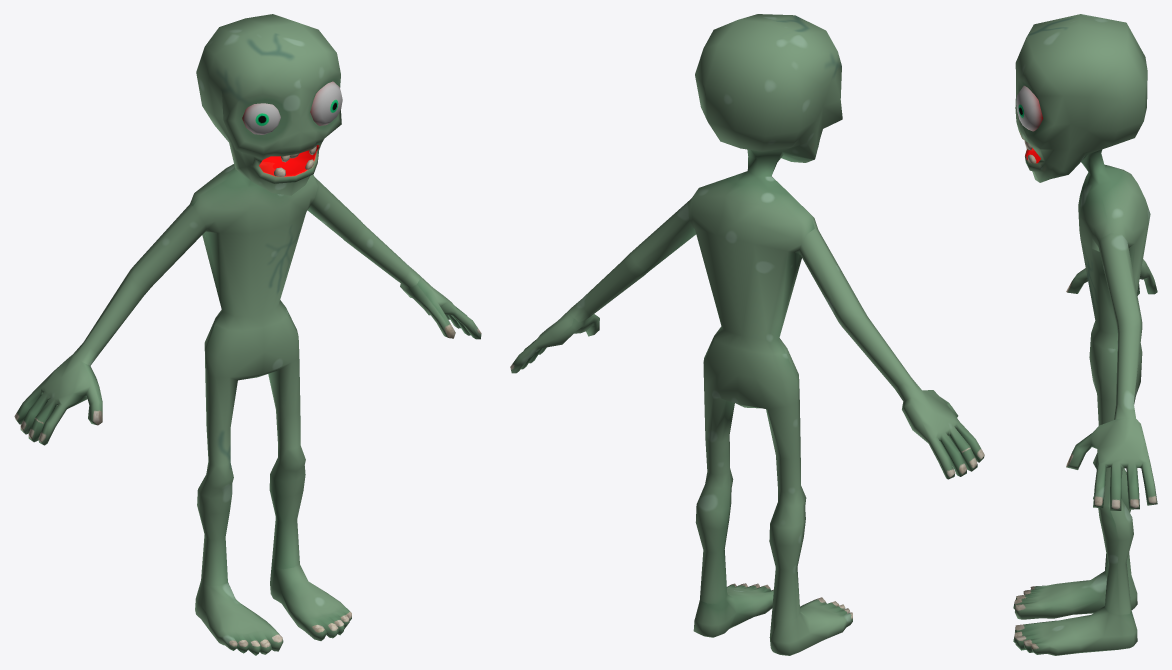
Rendered from zombie.fbx.
The picture shows the model from 3 angles, left to right: view 1: azimuth 30°, elevation 25°; view 2: azimuth 150°, elevation 25°; view 3: azimuth 270°, elevation 25°; orthographic projection.
Visible parts, largest first — view 1: Cube.003; view 2: Cube.003; view 3: Cube.003.
Boxes of the visible parts, box(x1,y1,x2,y2) form: Cube.003: box(14, 14, 481, 655); Cube.003: box(510, 14, 984, 655); Cube.003: box(1013, 14, 1157, 655).
Size of the model in its own units: 343 by 443 by 95.89.
